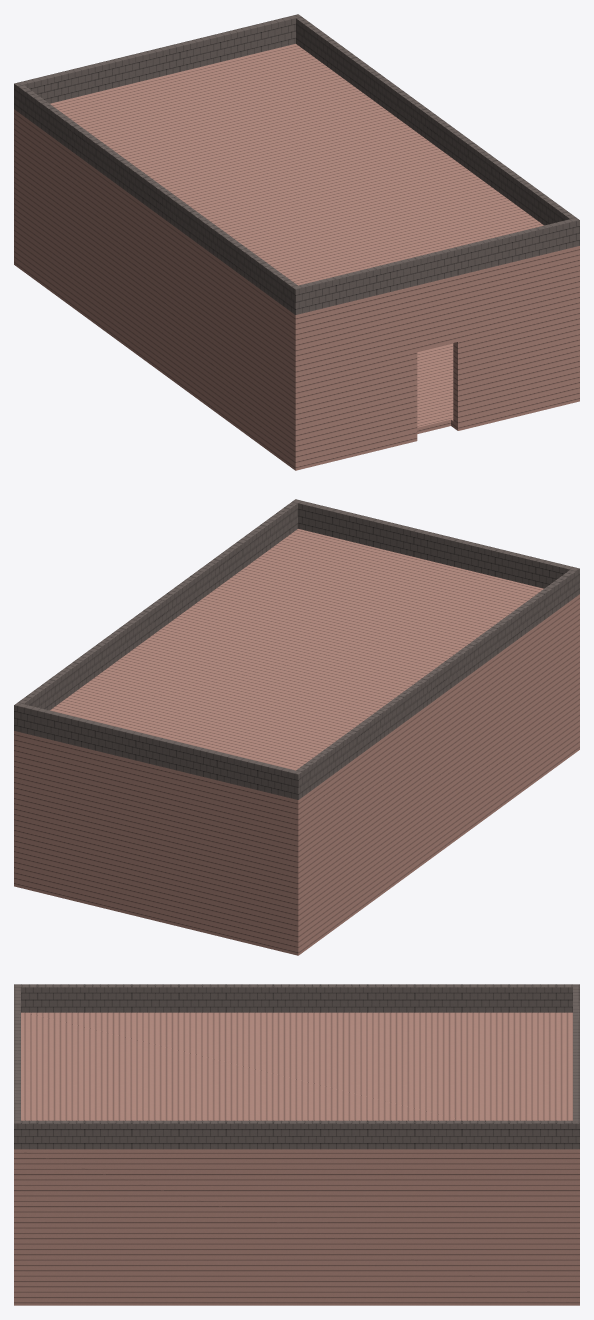
Rendered from insurance_agency.glb.
The picture shows the model from 3 angles, top to bottom: view 1: azimuth 30°, elevation 25°; view 2: azimuth 150°, elevation 25°; view 3: azimuth 270°, elevation 25°; orthographic projection.
Parts seen in each view (by area): view 1: insurance_agency-col; view 2: insurance_agency-col; view 3: insurance_agency-col.
Boxes of the visible parts, x1,y1,x2,y2 form: insurance_agency-col: [14, 14, 579, 470]; insurance_agency-col: [14, 499, 579, 955]; insurance_agency-col: [14, 984, 579, 1305].
Bounding box in the file's own units: 7 × 4.26 × 12.
Materials: 2 (2 with a texture image).
